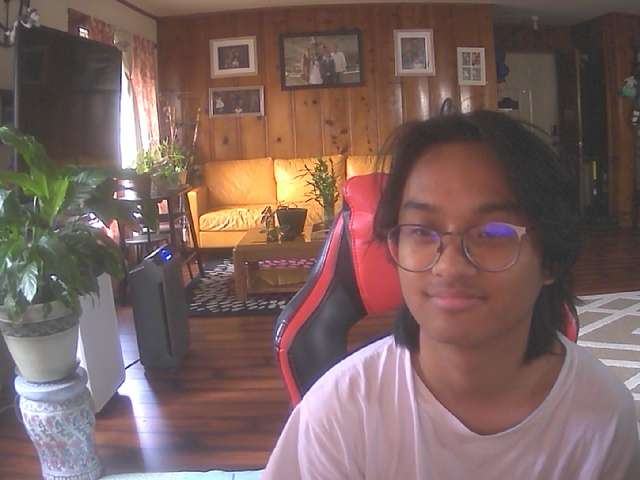happy: (375, 120, 569, 352)
